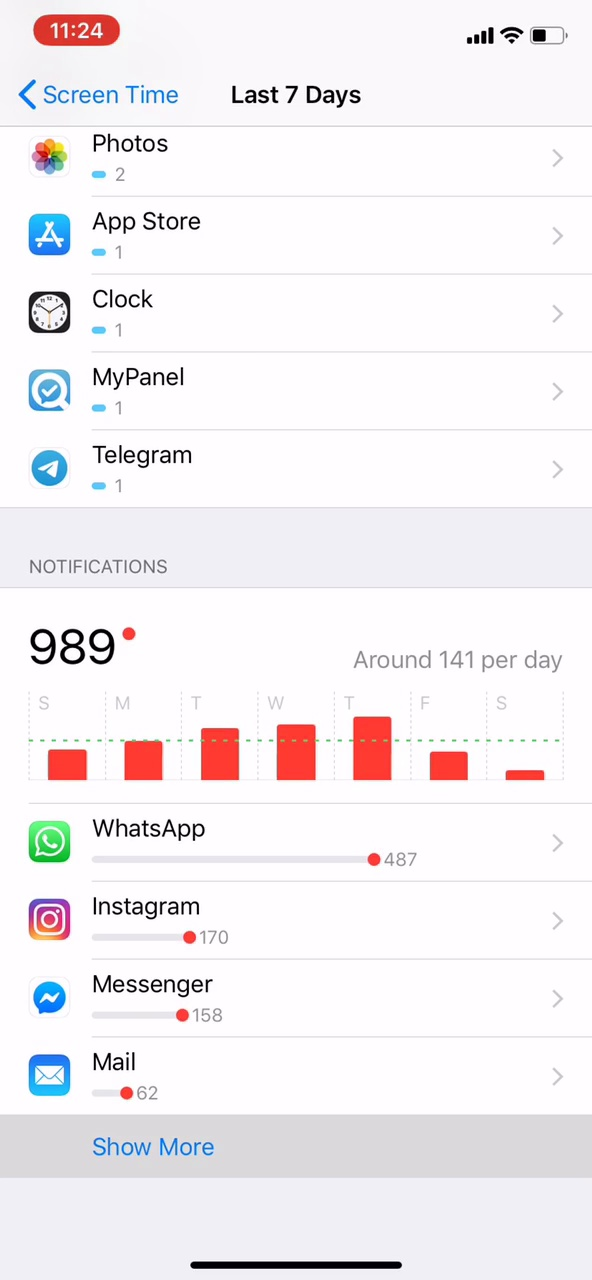not_app: (22, 811, 451, 882), (25, 960, 259, 1032), (22, 889, 257, 950), (25, 1042, 189, 1105)
not_over: (12, 525, 214, 672)
pick_app: (17, 196, 242, 272), (22, 357, 237, 425), (18, 435, 232, 496), (23, 277, 192, 347), (25, 128, 212, 189)
week: (223, 71, 380, 118)
